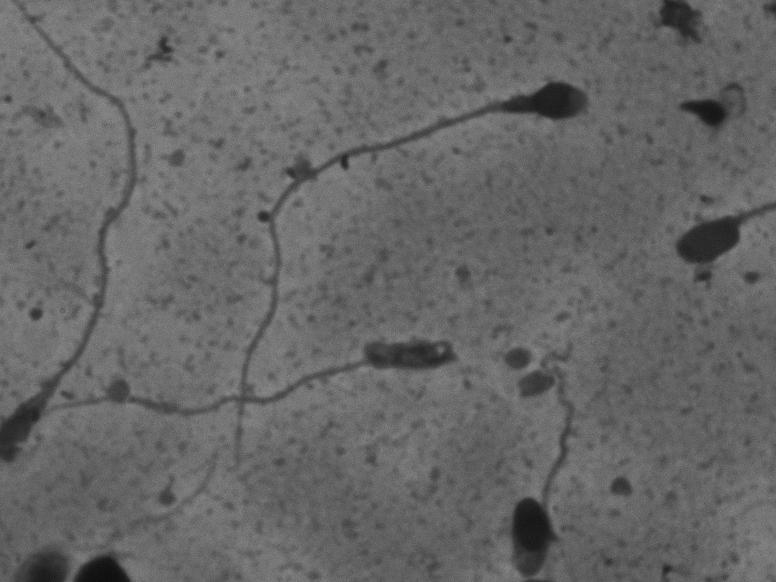Abnormal: (223, 68, 610, 470), (86, 305, 463, 440), (488, 331, 608, 575)
